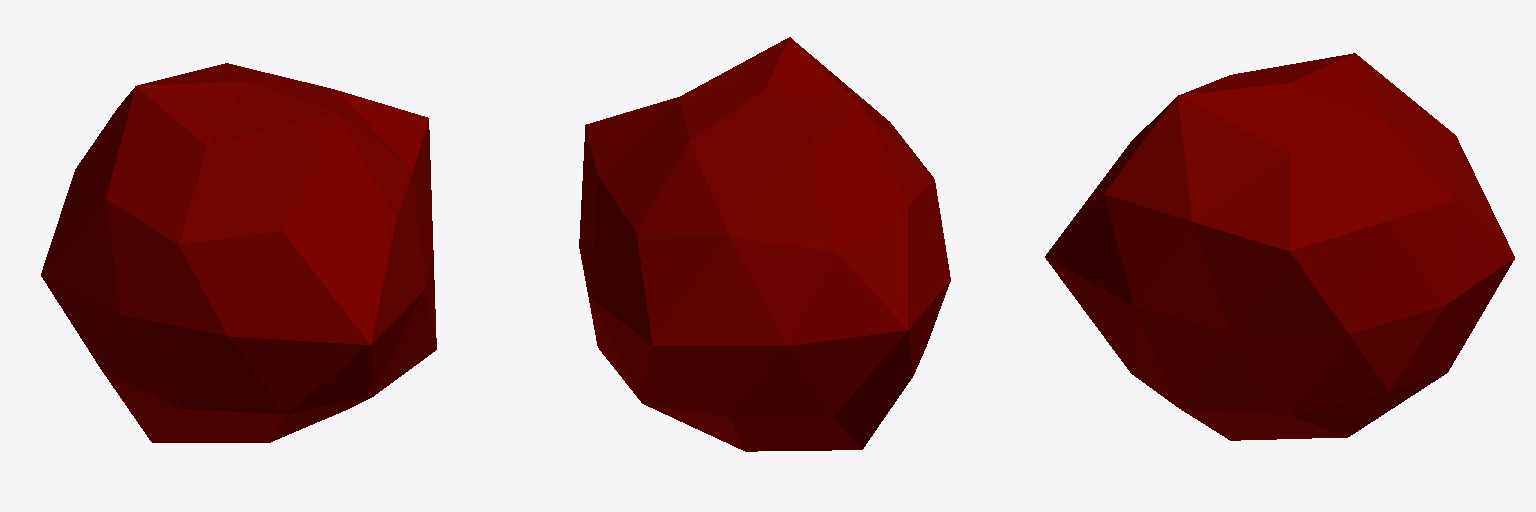
The model's file is asteroides1.obj.
The picture shows the model from 3 angles: view 1: azimuth 30°, elevation 25°; view 2: azimuth 150°, elevation 25°; view 3: azimuth 270°, elevation 25°; orthographic projection.
Parts seen in each view (by area): view 1: Icosphere; view 2: Icosphere; view 3: Icosphere.
Part boxes in pixels (left/top/right/bottom): Icosphere: left=41, top=63, right=436, bottom=442; Icosphere: left=579, top=37, right=950, bottom=451; Icosphere: left=1045, top=53, right=1514, bottom=440.
Size of the model in its own units: 2.17 by 2.04 by 2.49.